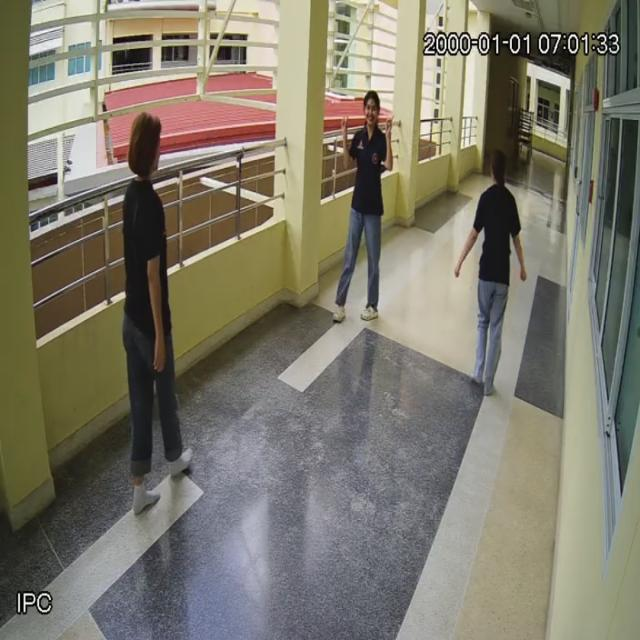normal: (121, 110, 187, 514), (330, 82, 400, 325), (462, 141, 524, 391)
